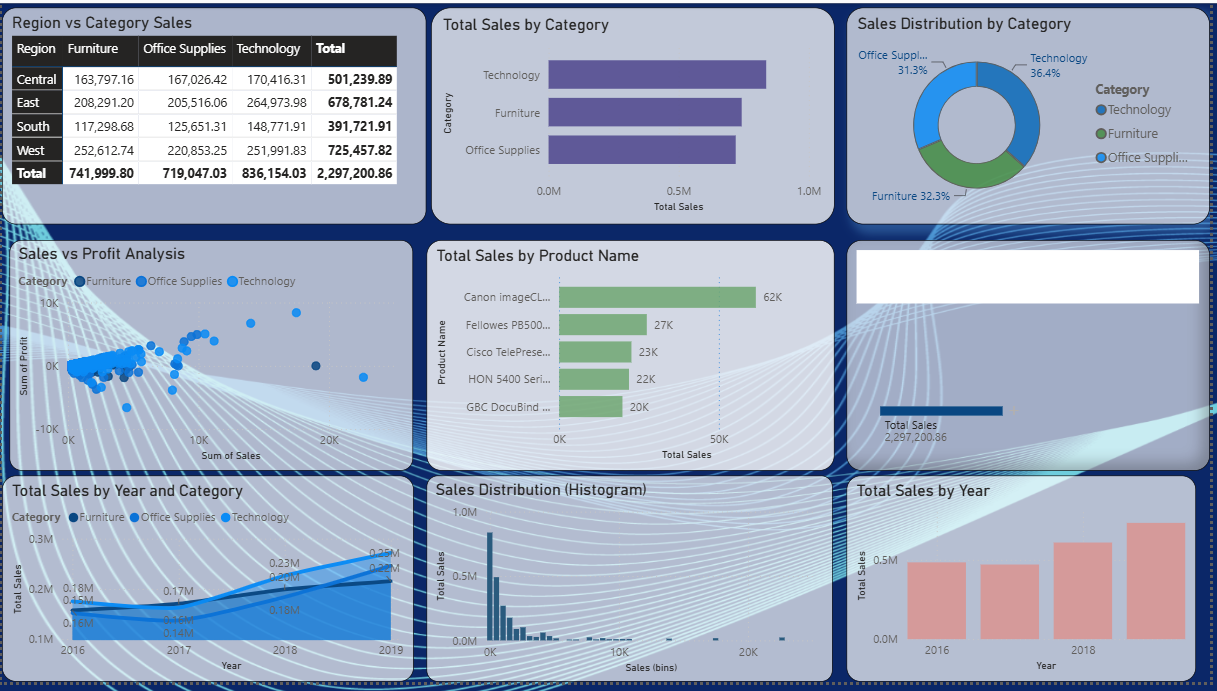

What the dashboard file says about the page in this screenshot:
{"tool":"powerbi","page":{"name":"Comparative Insights","canvas":[1280,720],"ordinal":1},"visuals":[{"type":"pivotTable","title":"Region vs Category Sales","fields":{"Rows":["Sales.Region"],"Columns":["Sales.Category"],"Values":["Sales.Total Sales"]},"box":[0,4.9,450,229.9],"z":0},{"type":"scatterChart","title":"Sales vs Profit Analysis","fields":{"X":["Sum(Sales.Sales)"],"Y":["Sum(Sales.Profit)"],"Series":["Sales.Category"],"Category":["Sales.Profit"]},"box":[8.6,250.7,428,244.6],"z":1000},{"type":"clusteredBarChart","fields":{"Category":["Sales.Category"],"Y":["Sales.Total Sales"]},"box":[454.9,4.9,428,229.9],"z":2000},{"type":"clusteredBarChart","fields":{"Category":["Sales.Product Name"],"Y":["Sales.Total Sales"]},"box":[450,250.7,432.9,244.6],"z":3000},{"type":"donutChart","title":"Sales Distribution by Category","fields":{"Category":["Sales.Category"],"Y":["Sales.Total Sales"]},"box":[895.1,4.9,385.2,229.9],"z":4000},{"type":"lineChart","fields":{"Category":["Date Table.Date.Variation.Date Hierarchy.Year","Date Table.Date.Variation.Date Hierarchy.Quarter","Date Table.Date.Variation.Date Hierarchy.Month","Date Table.Date.Variation.Date Hierarchy.Day"],"Y":["Sales.Total Sales"],"Series":["Sales.Category"]},"box":[0,501.4,436.6,218.9],"z":5000},{"type":"decompositionTreeVisual","fields":{"Analyze":["Sales.Total Sales"],"ExplainBy":["Sales.Region","Sales.Segment","Sales.Category","Sales.Ship Mode"]},"box":[895.1,250.7,385.2,244.6],"z":6000},{"type":"clusteredColumnChart","title":"Sales Distribution (Histogram)","fields":{"Category":["Sales.Sales (bins)"],"Y":["Sales.Total Sales"]},"box":[450,501.4,430.4,218.9],"z":7000},{"type":"clusteredColumnChart","fields":{"Category":["Date Table.Date.Variation.Date Hierarchy.Year","Date Table.Date.Variation.Date Hierarchy.Quarter","Date Table.Date.Variation.Date Hierarchy.Month","Date Table.Date.Variation.Date Hierarchy.Day"],"Y":["Sales.Total Sales"]},"box":[895.1,501.4,370.5,218.9],"z":8000}]}

Visuals, with their boxes in screenshot pixels (x1, y1, x2, y2), scaled from the page's 1280x720 canvas onto the 1217x691 screenshot:
"Region vs Category Sales" pivotTable: Rect(0, 5, 428, 225)
"Sales vs Profit Analysis" scatterChart: Rect(8, 241, 415, 475)
clusteredBarChart - Sales.Category x Sales.Total Sales: Rect(433, 5, 839, 225)
clusteredBarChart - Sales.Product Name x Sales.Total Sales: Rect(428, 241, 839, 475)
"Sales Distribution by Category" donutChart: Rect(851, 5, 1216, 225)
lineChart - Date Table.Date.Variation.Date Hierarchy.Year x Date Table.Date.Variation.Date Hierarchy.Quarter: Rect(0, 481, 415, 690)
decompositionTreeVisual - Sales.Total Sales x Sales.Region: Rect(851, 241, 1216, 475)
"Sales Distribution (Histogram)" clusteredColumnChart: Rect(428, 481, 837, 690)
clusteredColumnChart - Date Table.Date.Variation.Date Hierarchy.Year x Date Table.Date.Variation.Date Hierarchy.Quarter: Rect(851, 481, 1203, 690)
